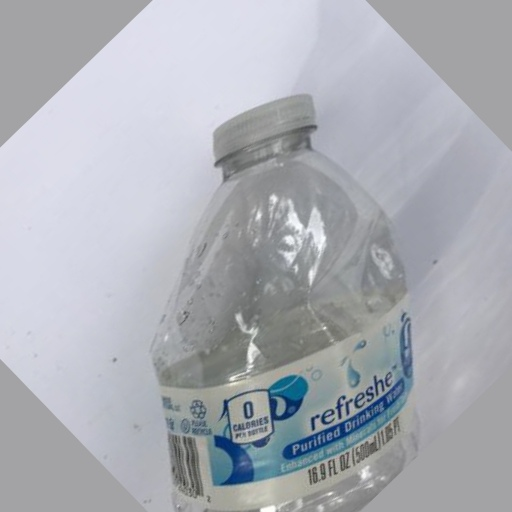Plastic_0: (157, 92, 420, 512)
